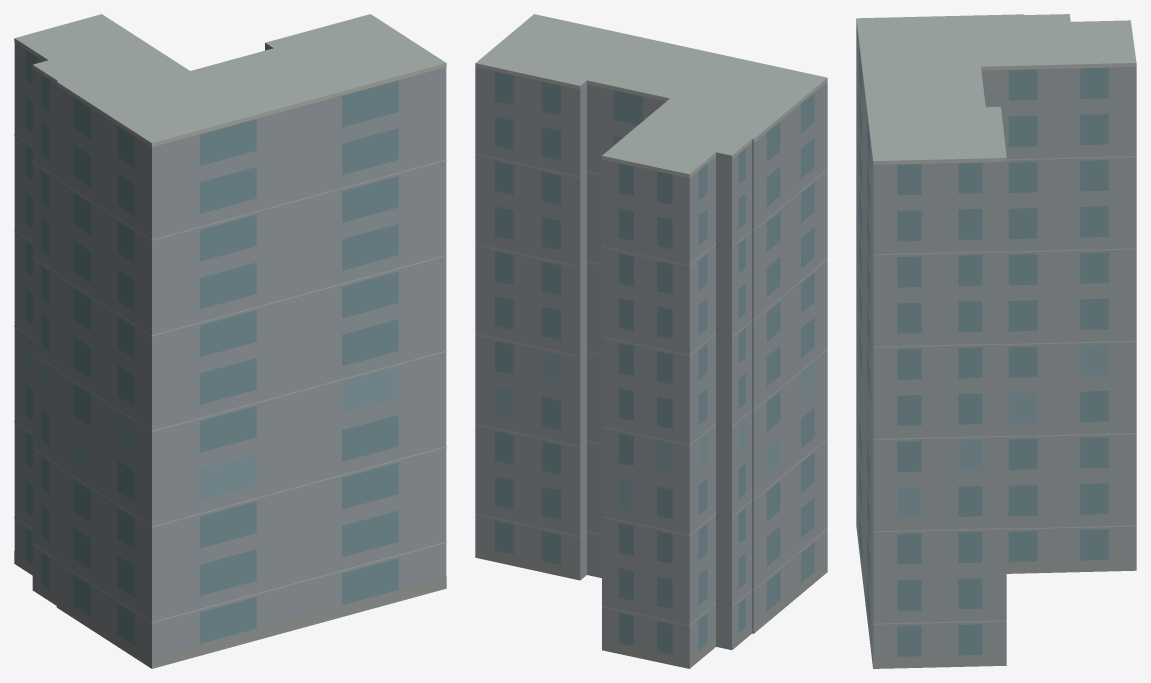
The model's file is survey-upis-32911976.glb.
The picture shows the model from 3 angles, left to right: view 1: azimuth 30°, elevation 25°; view 2: azimuth 150°, elevation 25°; view 3: azimuth 270°, elevation 25°; orthographic projection. The views are drawn at different scales.
Parts seen in each view (by area): view 1: survey-upis-32911976.tmp; view 2: survey-upis-32911976.tmp; view 3: survey-upis-32911976.tmp.
Boxes of the visible parts, box(x1,y1,x2,y2) form: survey-upis-32911976.tmp: box(14, 14, 446, 668); survey-upis-32911976.tmp: box(475, 14, 827, 668); survey-upis-32911976.tmp: box(856, 14, 1136, 668).
Size of the model in its own units: 20.03 by 32.2 by 16.13.
